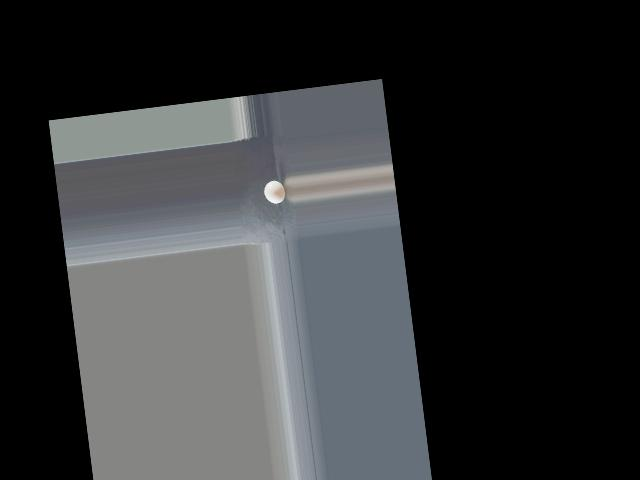egg: (262, 180, 286, 205)
